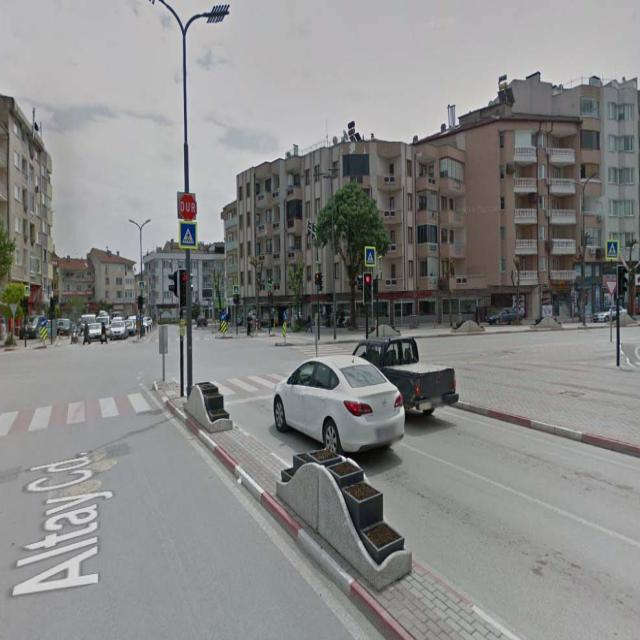dur: (179, 193, 197, 220)
kirmizi: (180, 268, 189, 305), (364, 275, 371, 304)
